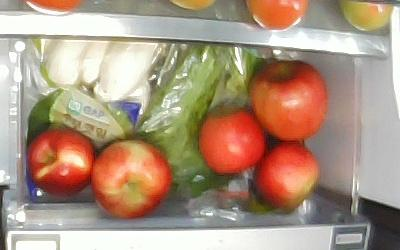apple: (91, 138, 171, 218), (249, 60, 328, 140), (26, 128, 97, 197), (252, 142, 319, 213), (199, 107, 267, 175)
